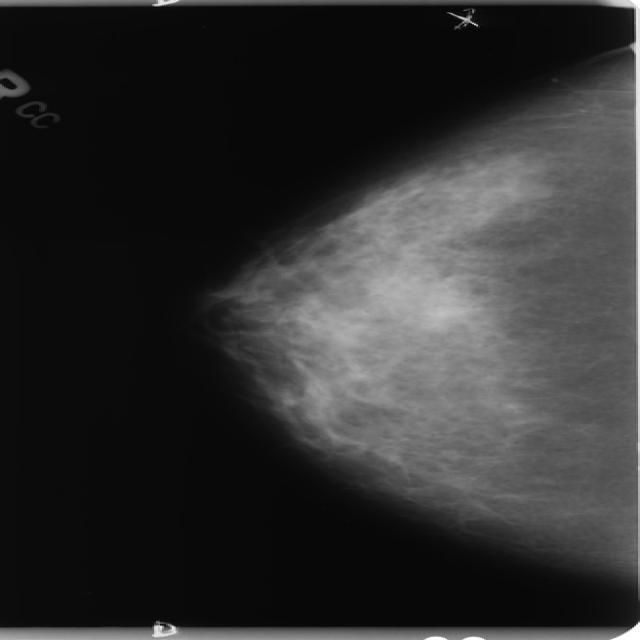tumour: (506, 180, 552, 199)
